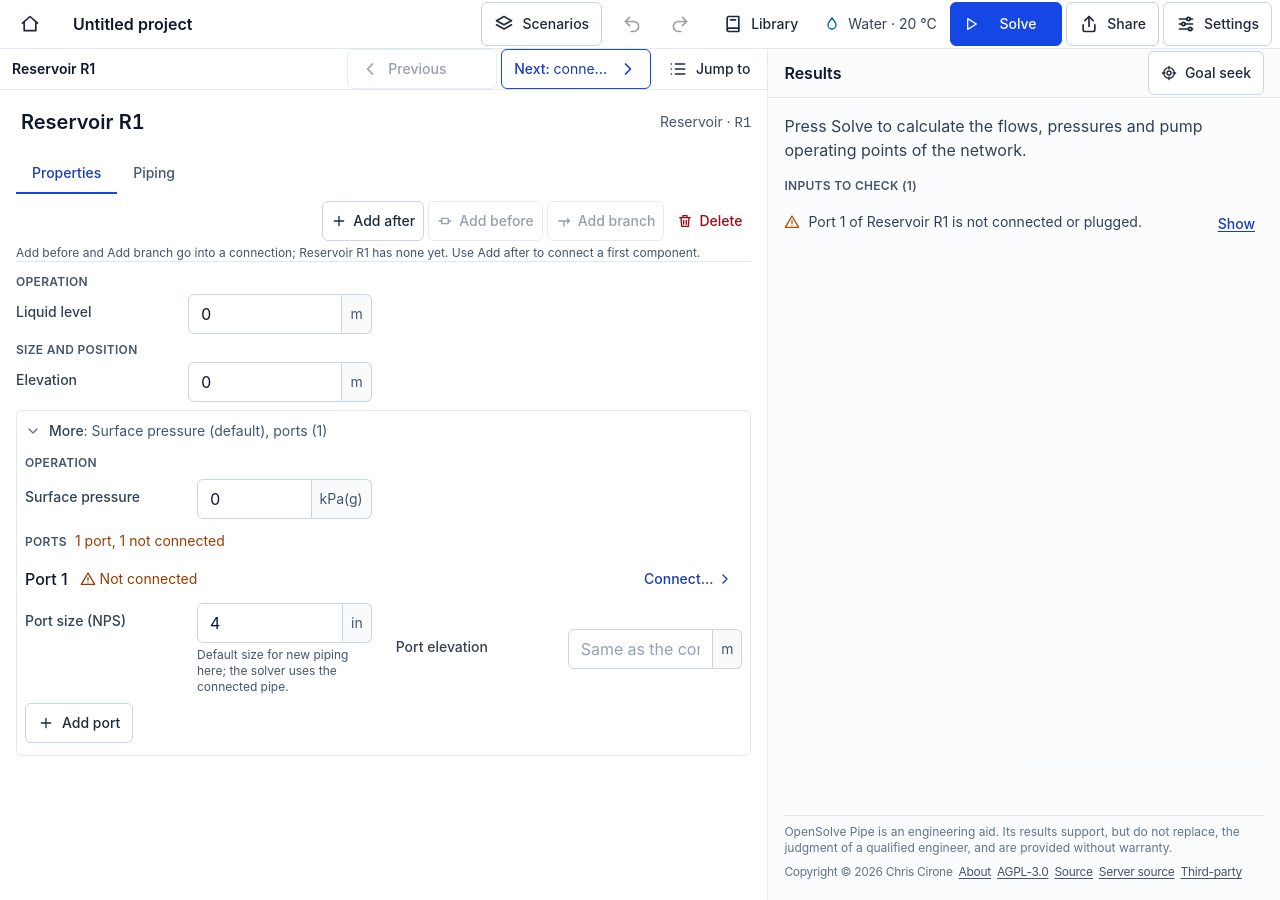
Test case: adding an assigned-flow node › after a reservoir: asks for the flow first, then adds it as a supply, exactly
The width and height of the screenshot is (1280, 900).
Click the button "Add after" at (373, 221), box [322, 201, 424, 241]
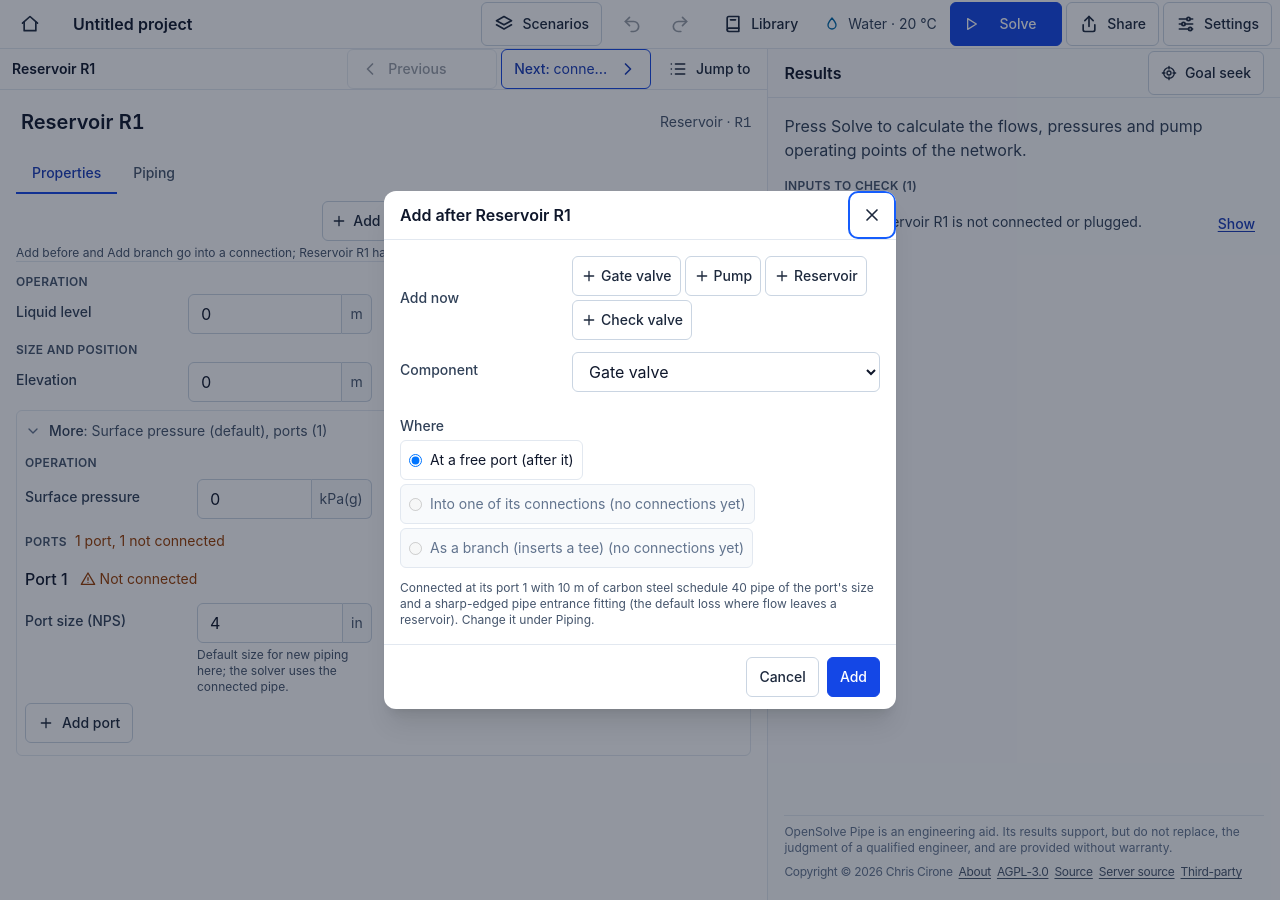
Select "Assigned flow (demand or supply)" in the dropdown labelled "Component" at (726, 372), box [572, 352, 880, 392]
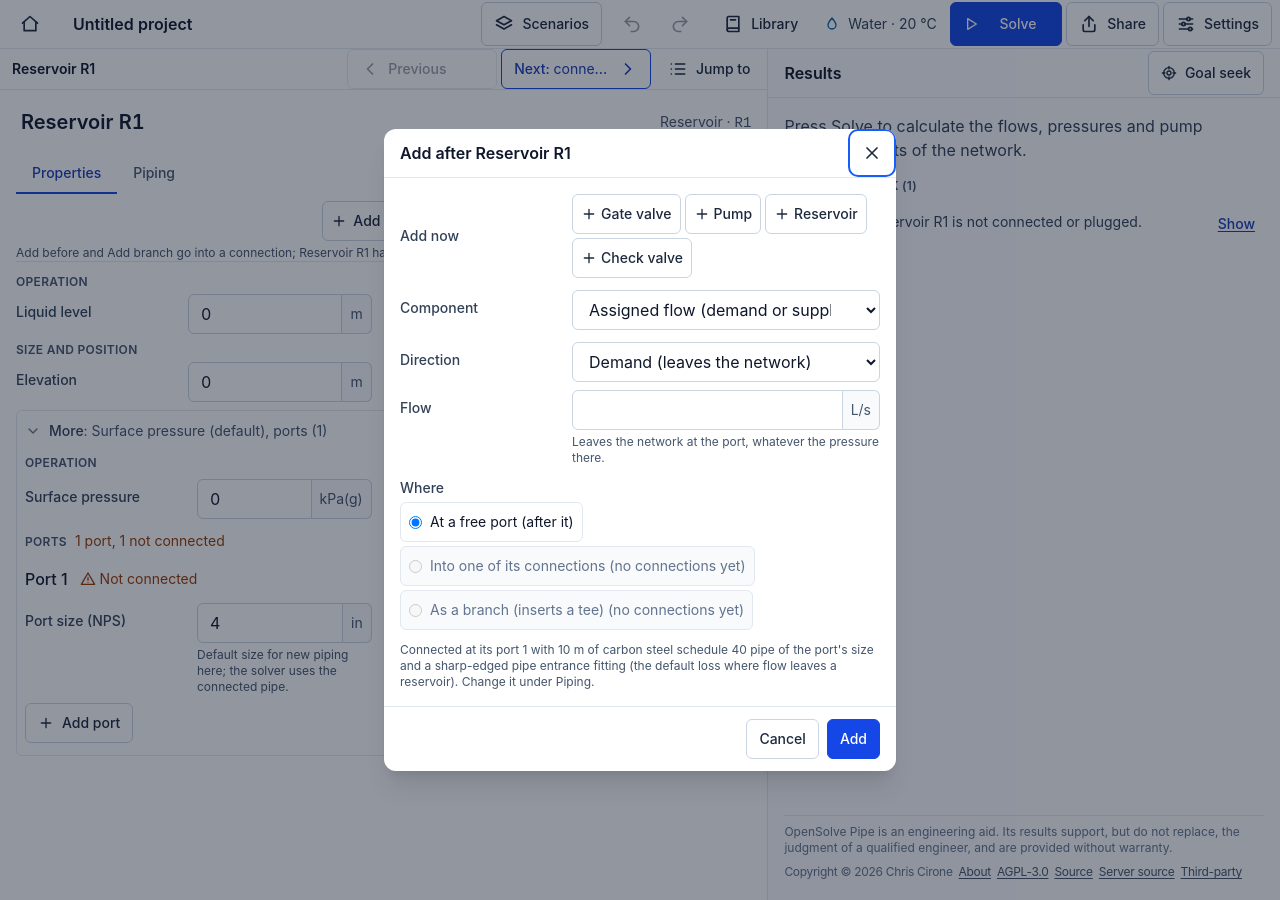
Expected: the field named "Flow (L/s)" is empty, [572, 390, 843, 430]
Click the button "Add" at (853, 739), box [827, 719, 880, 759]
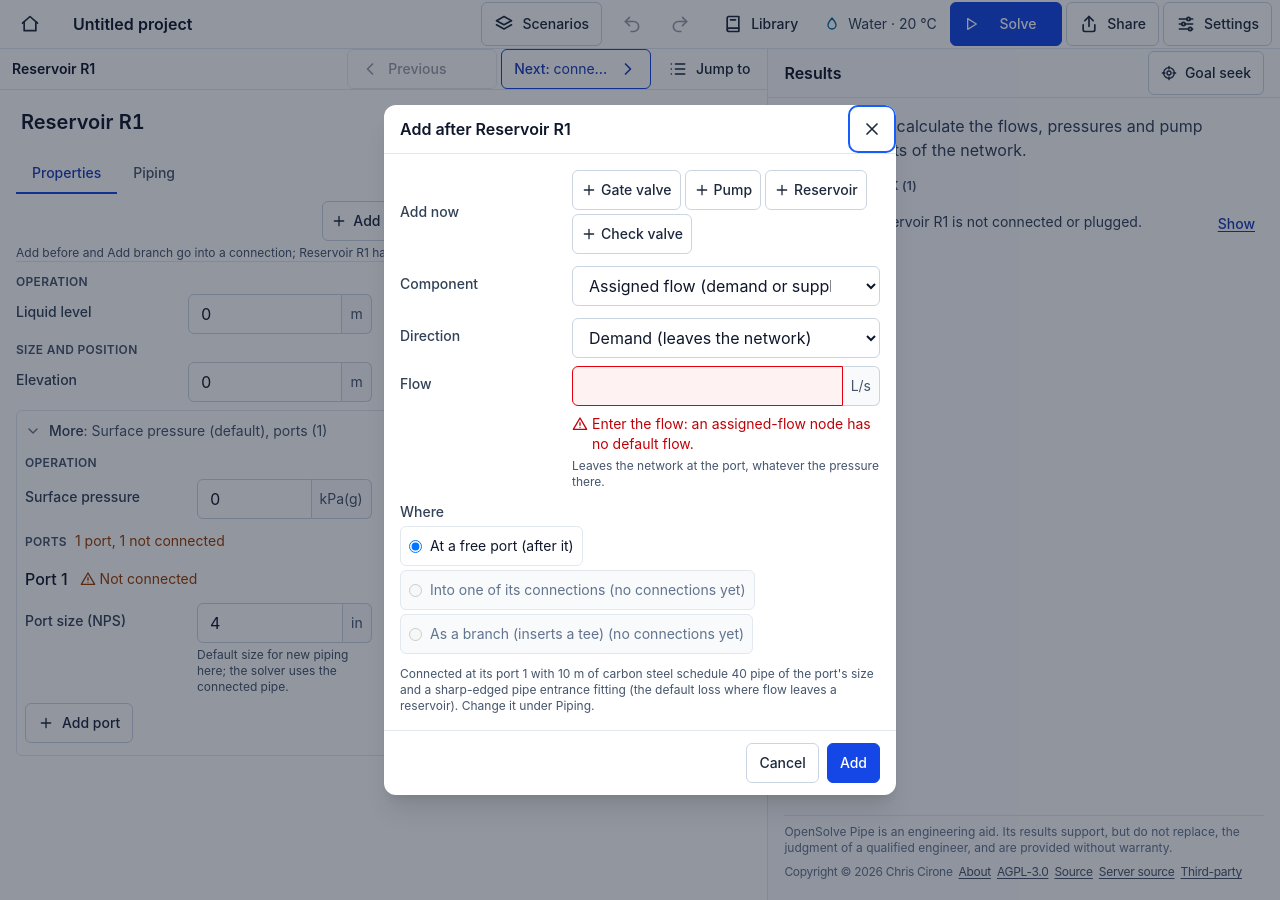
Result: the message reads "Enter the flow: an assigned-flow node has no default flow." at [592, 415, 871, 452]
Select "Supply (enters the network)" in the dropdown labelled "Direction" at (726, 338), box [572, 318, 880, 358]
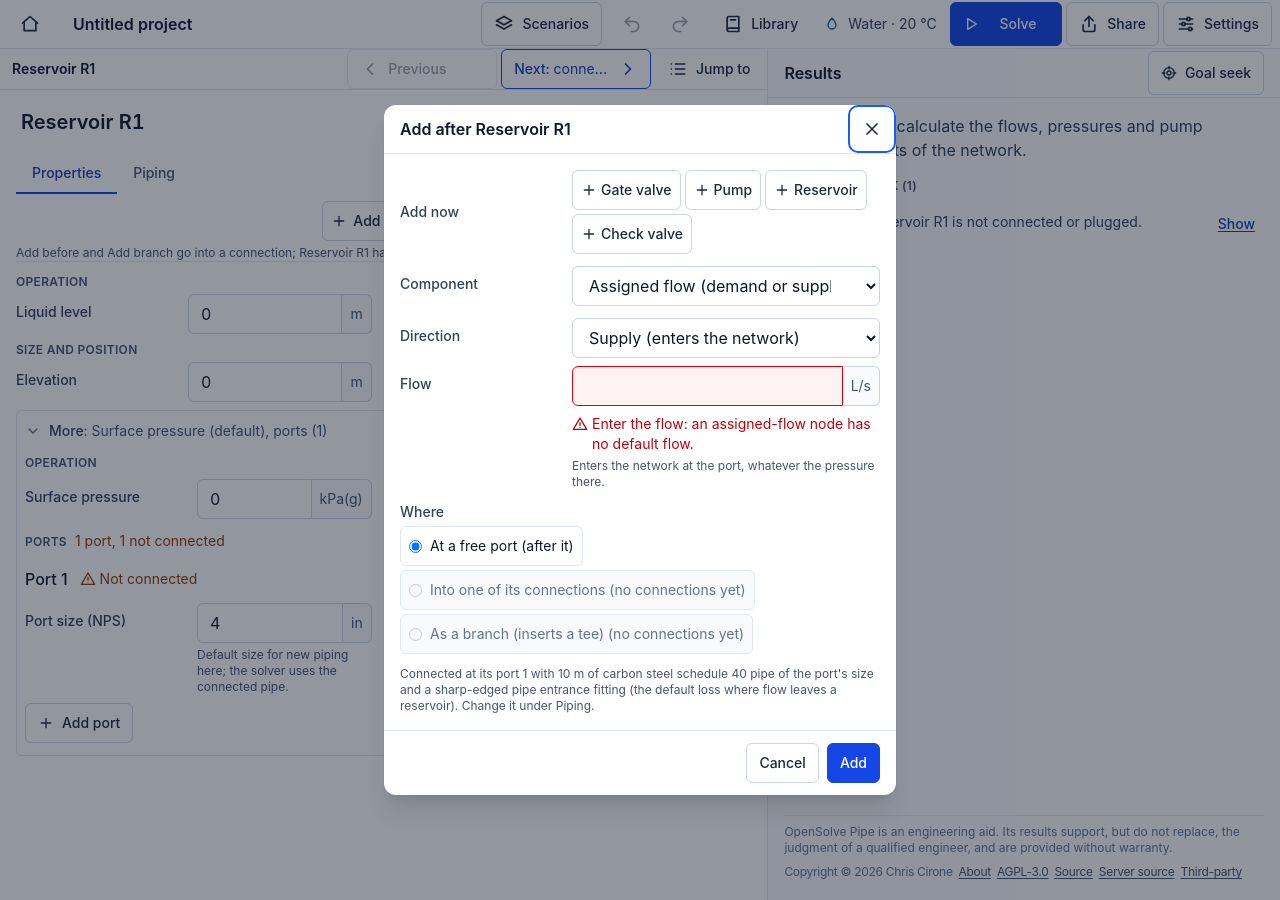
Type "5" into the field named "Flow (L/s)" at (707, 386), box [572, 366, 843, 406]
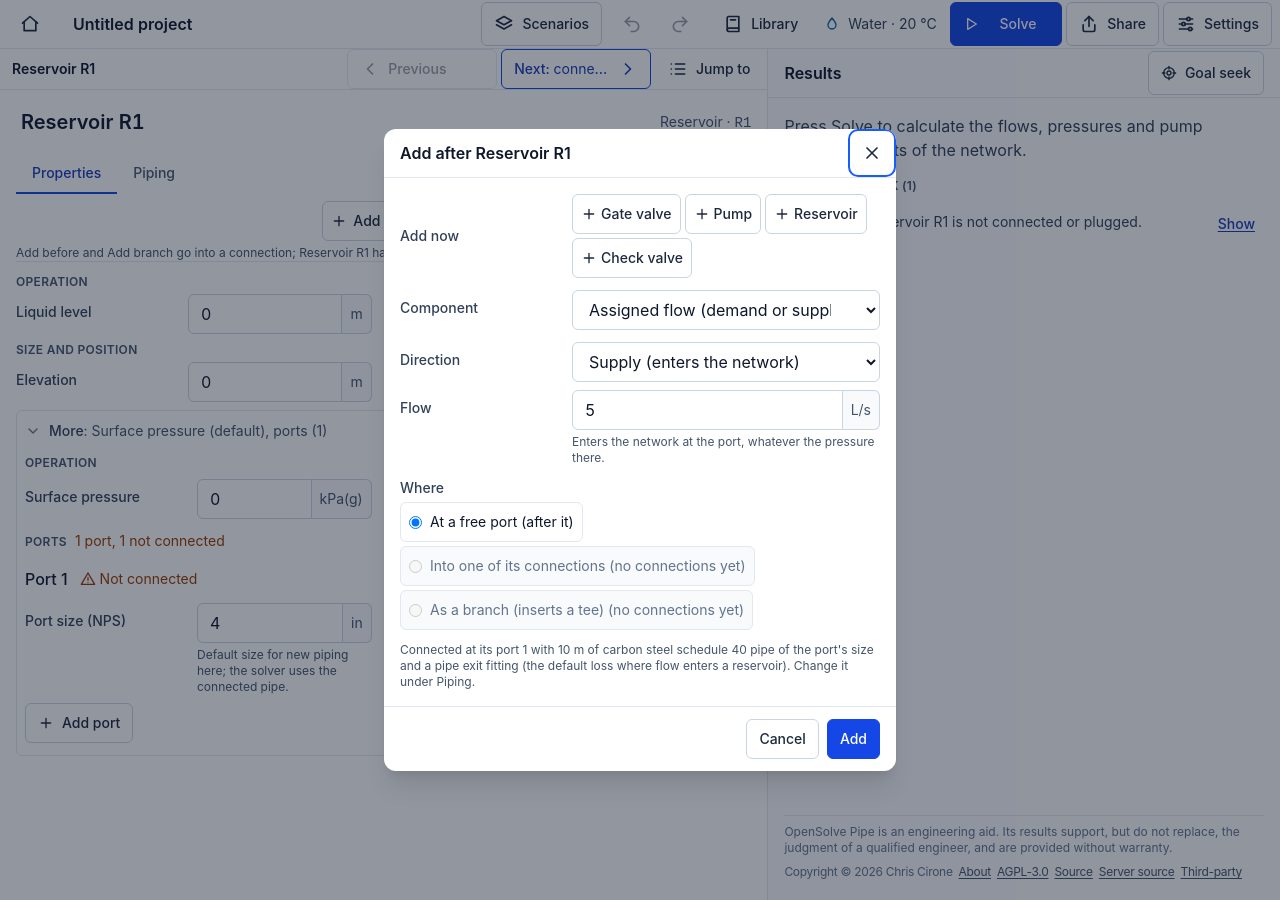
Result: the message "Enter the flow: an assigned-flow node has no default flow." is gone
Click the button "Add" at (853, 739), box [827, 719, 880, 759]
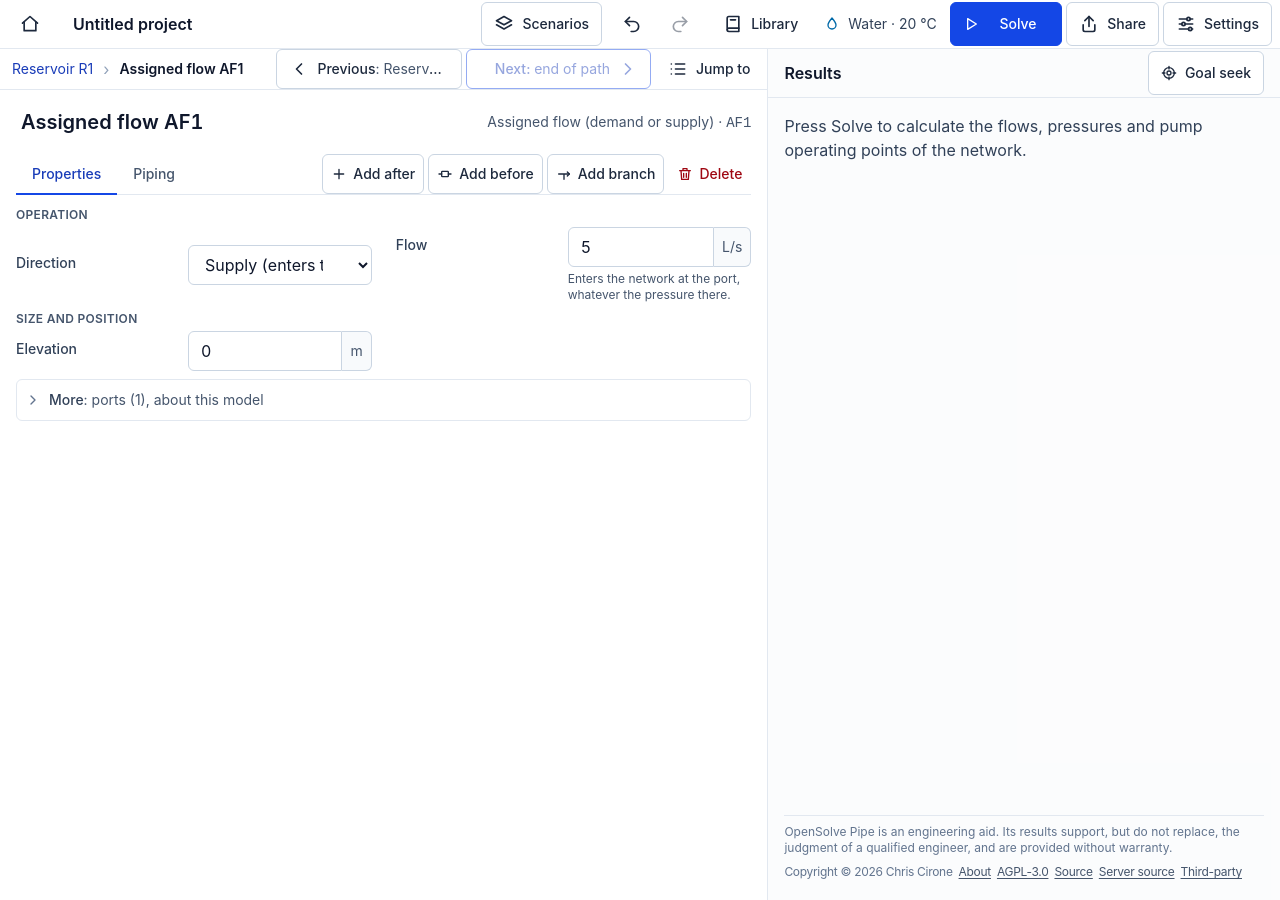
Result: the dialog is gone
Result: the button "Assigned flow AF1" is shown at [112, 49, 252, 89]
Result: the button "Next: end of path" is disabled at [466, 49, 651, 89]
